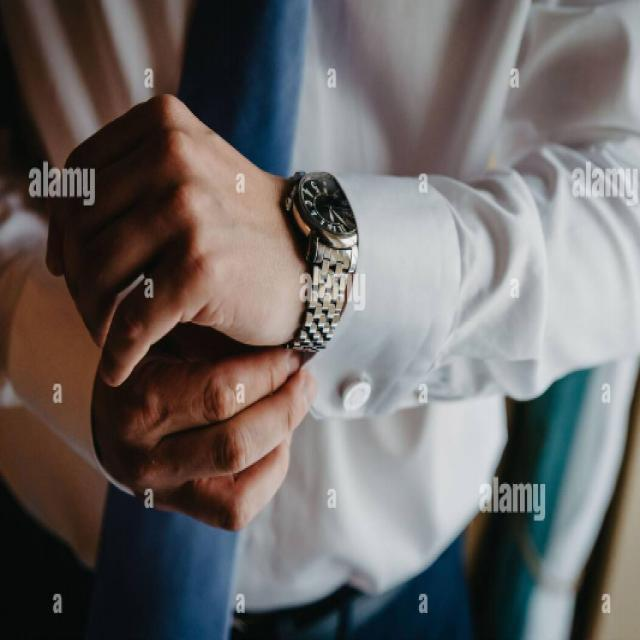Watch: (285, 164, 358, 352)
